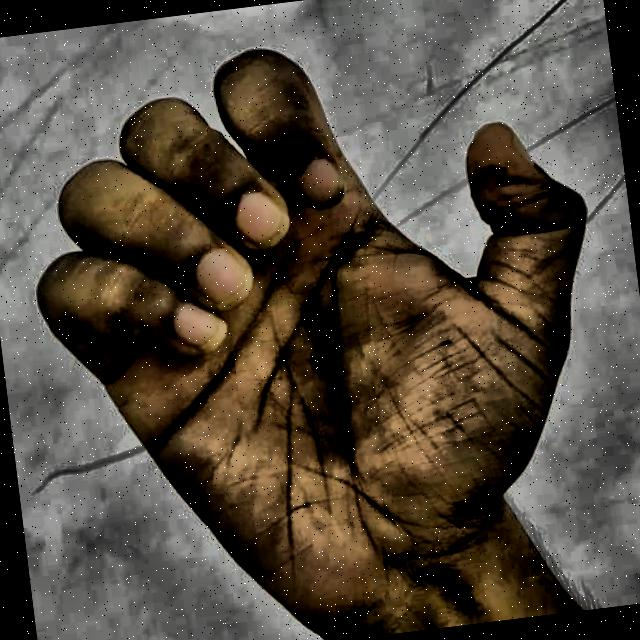Dho: (9, 0, 638, 640)
